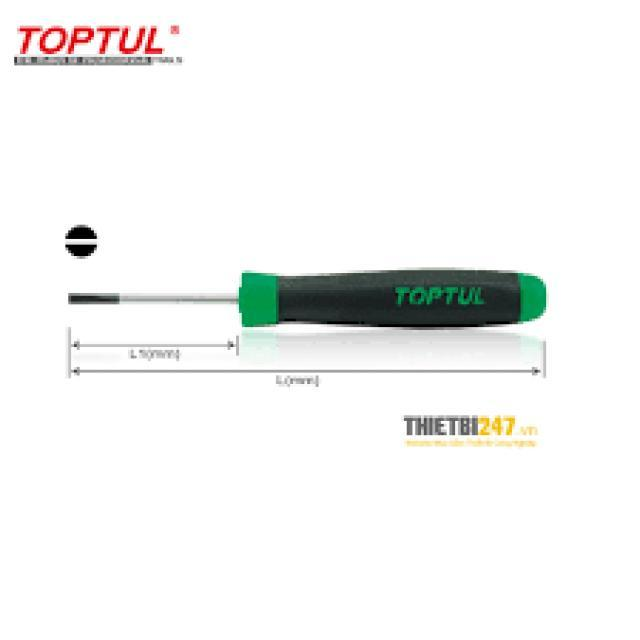screwdriver: (66, 263, 551, 333)
